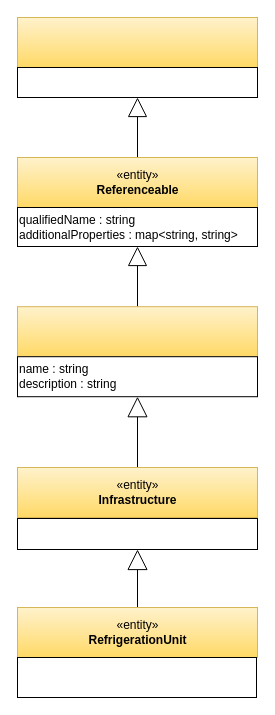
This 275x715 diagram has some shape labels left out. Each missing label, with the box of its shape:
identifier : string coolantType : string: (16, 656, 256, 698)
«entity» Asset: (16, 306, 258, 357)
«entity» OpenMetadataRoot: (16, 16, 258, 68)
